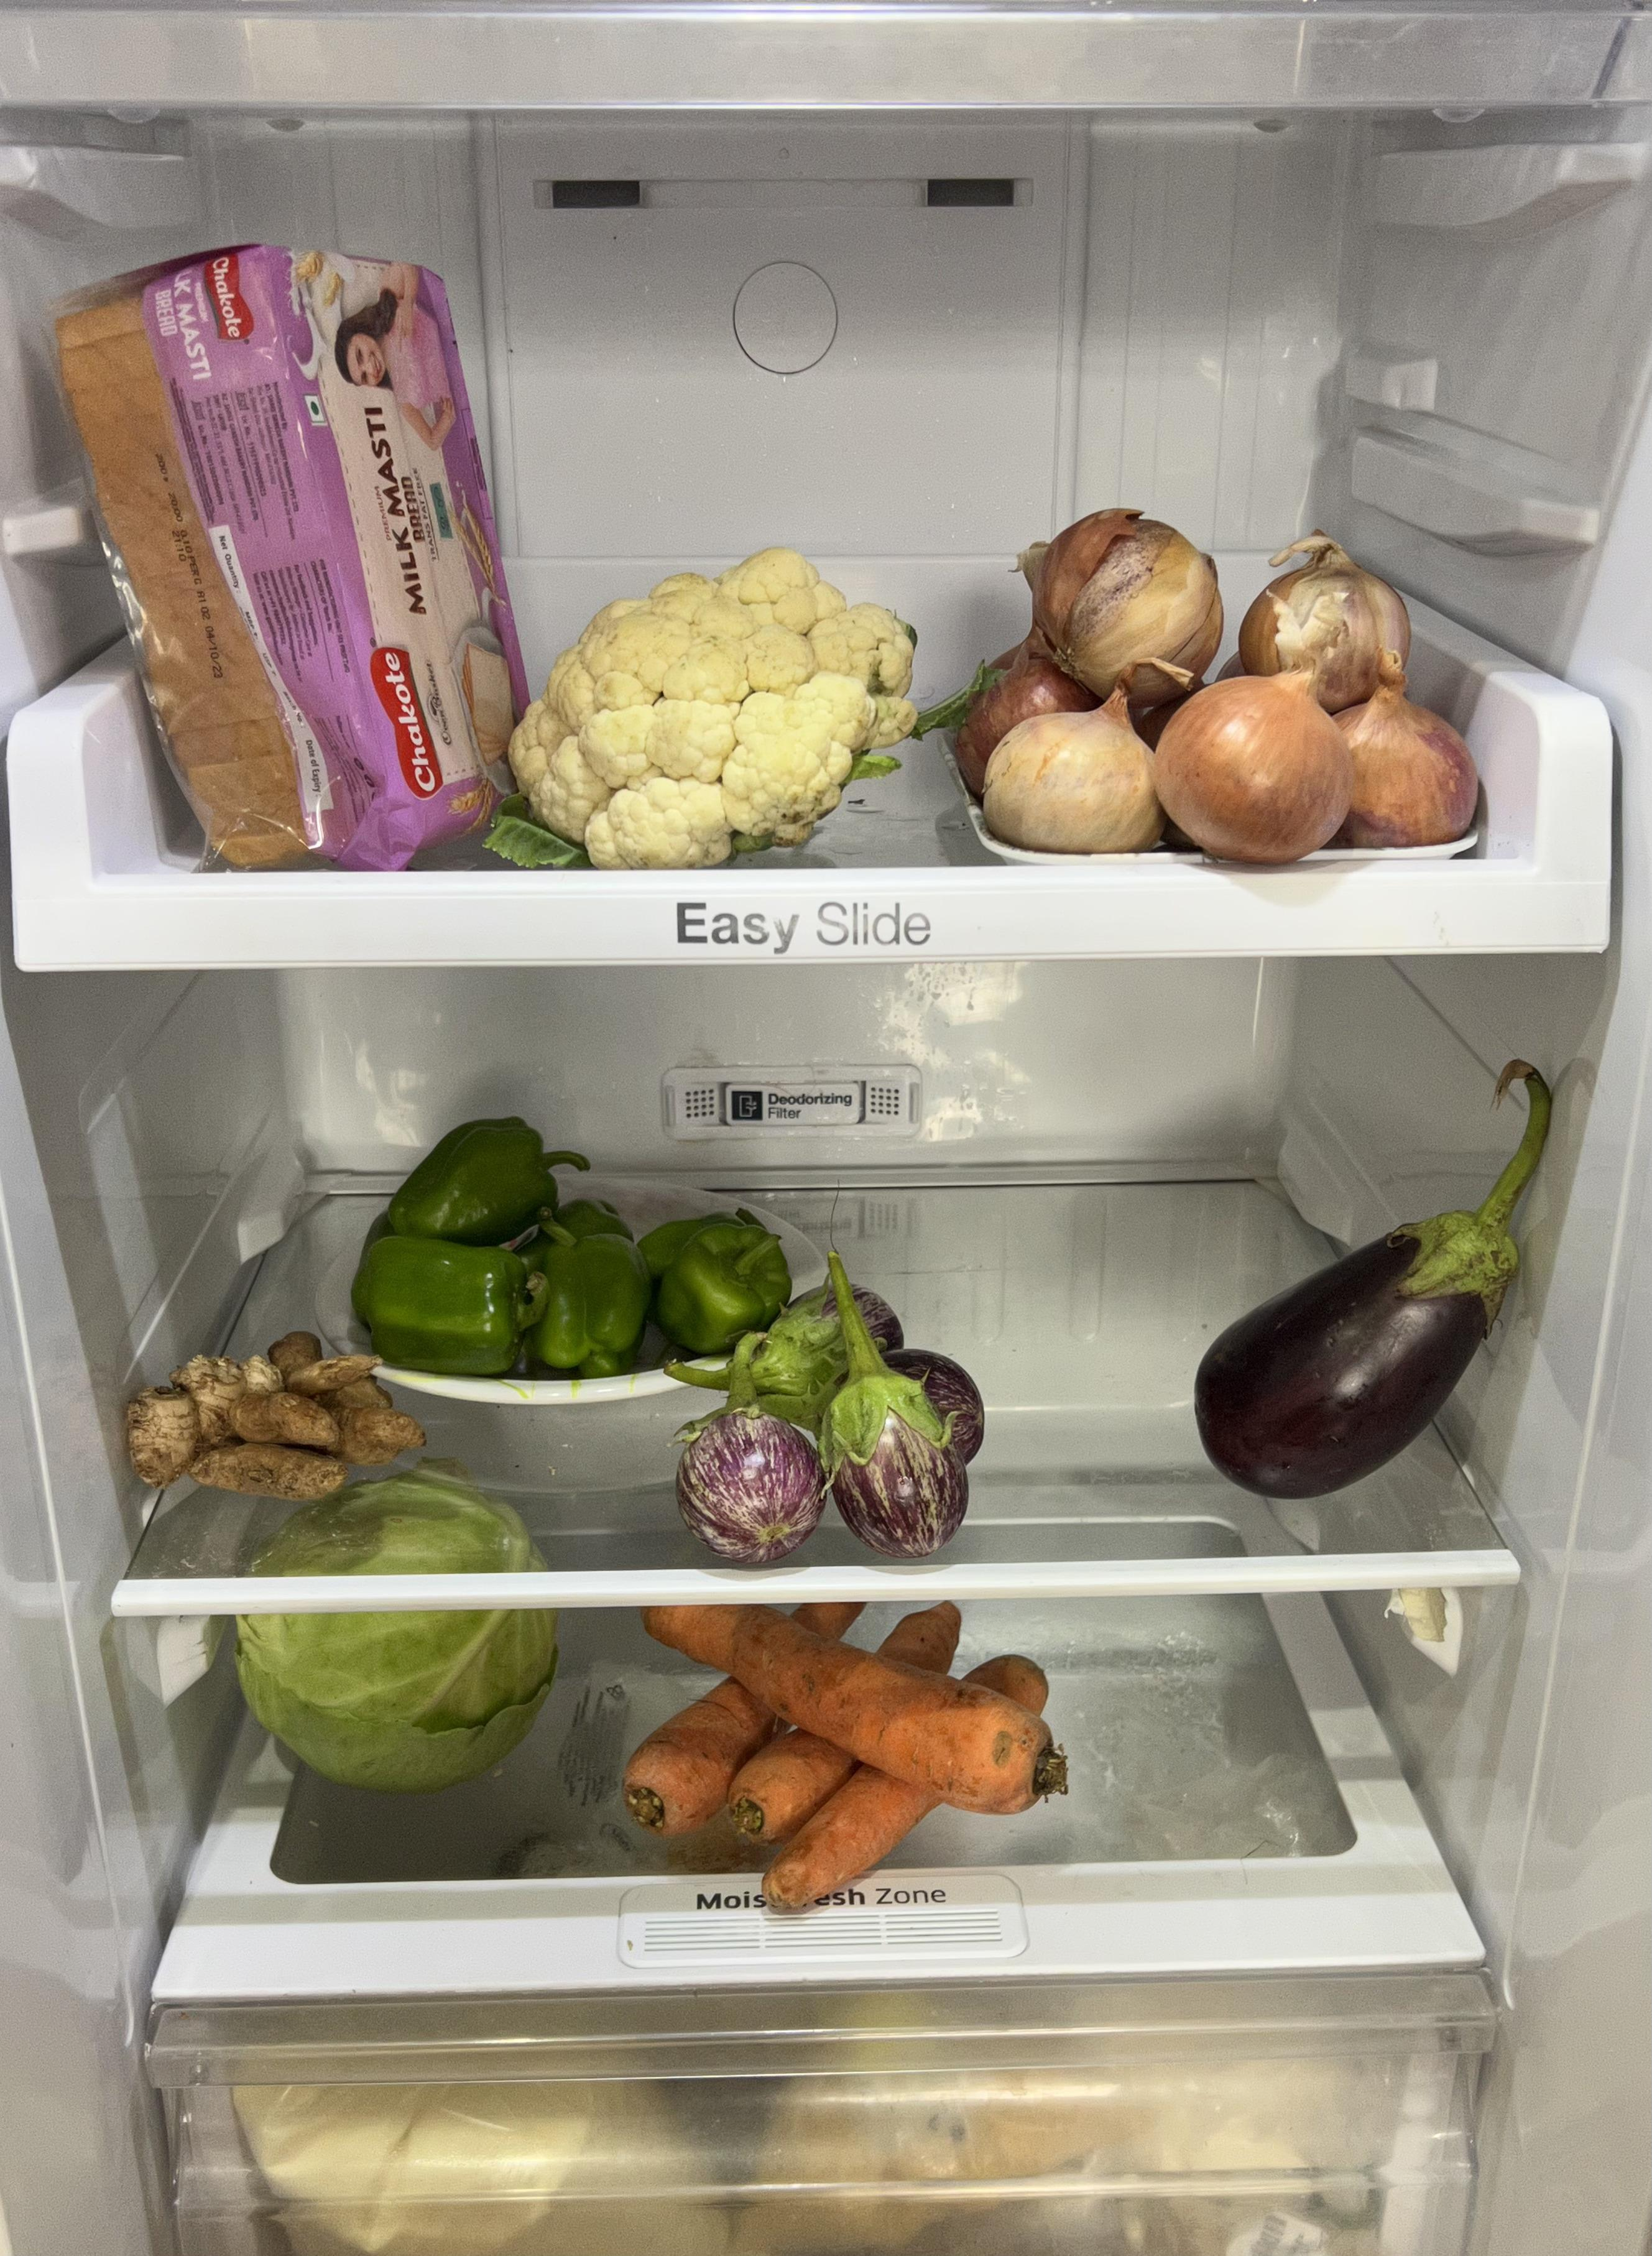bread: (46, 226, 513, 881)
bringal: (1198, 1191, 1533, 1492), (685, 1294, 993, 1545)
cabbage: (226, 1540, 562, 1788)
capsicum: (349, 1114, 774, 1357)
carrots: (625, 1597, 1069, 1909)
cauliflower: (533, 552, 923, 876)
ginger: (123, 1314, 417, 1508)
onion: (969, 504, 1493, 857)
